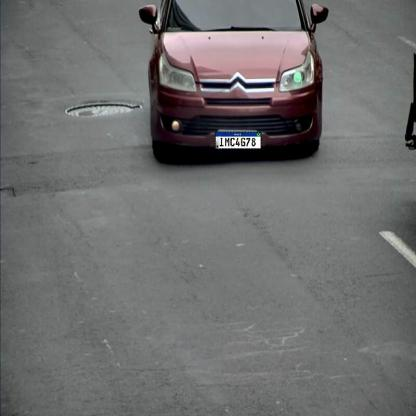PlacaM: (214, 132, 262, 149)
